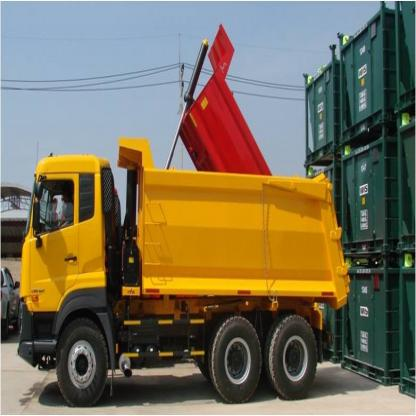dump_truck: (16, 125, 349, 415)
